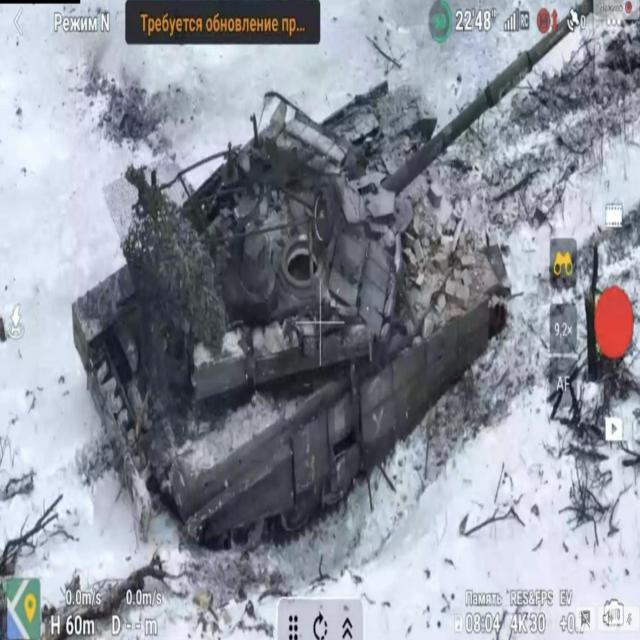vehicle: (70, 90, 510, 554)
